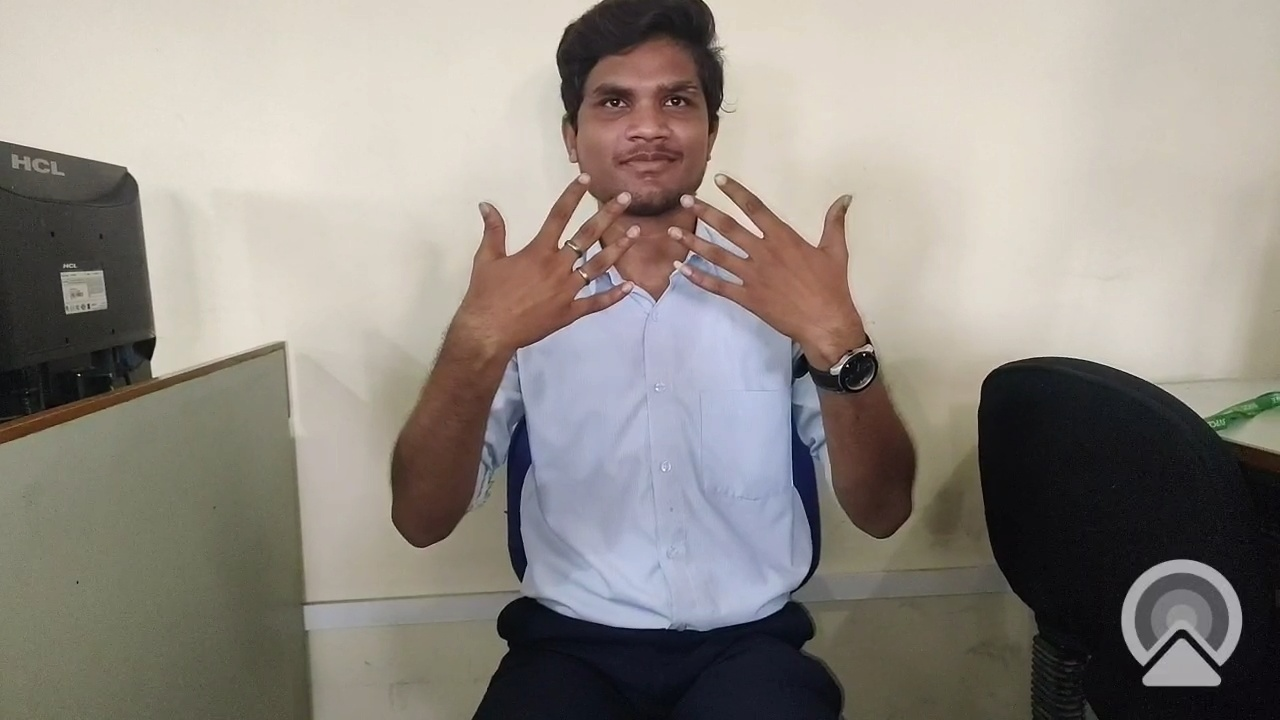Thank you: (403, 161, 938, 469)
